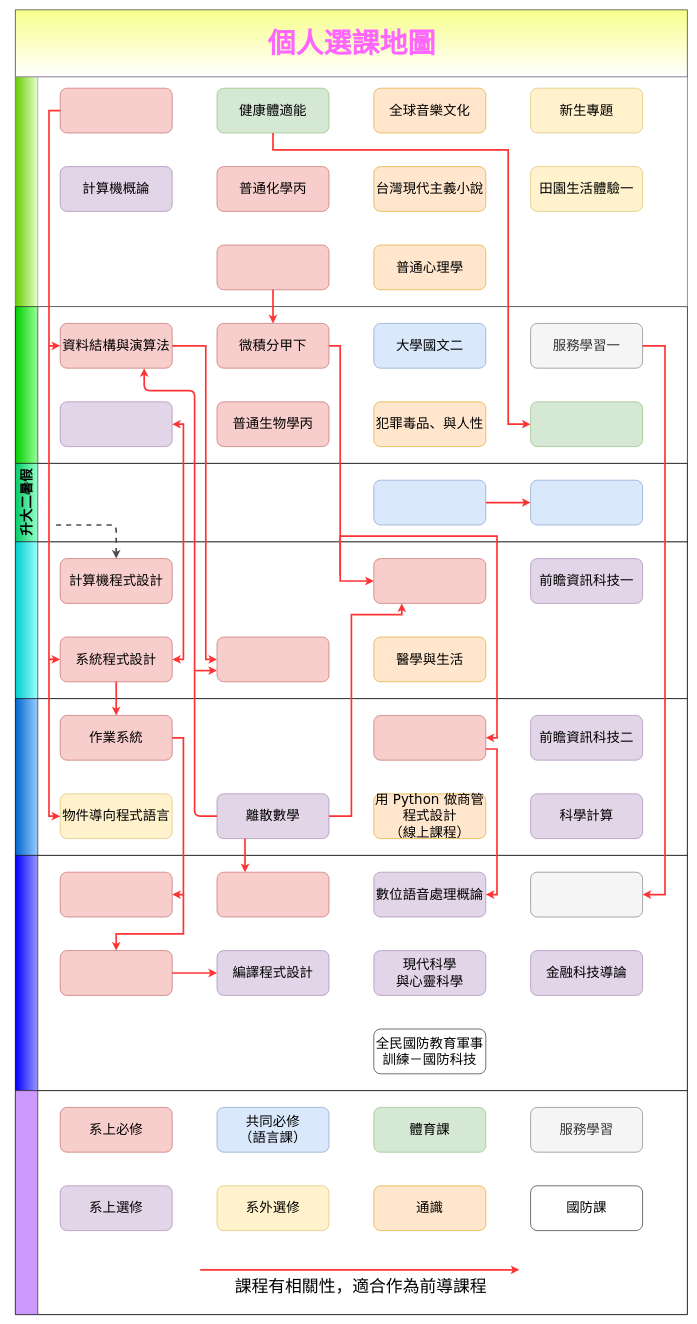
Some shapes in this 697 by 1324 pixel diagram are drawn without their labels. The box of each missing label's shape, as (x1, y1, x2, y2) in pixels:
圖例: (15, 1090, 687, 1315)
大一上: (15, 76, 687, 307)
大一下: (15, 306, 687, 463)
大三上: (15, 855, 687, 1091)
大二上: (15, 541, 687, 699)
大二下: (15, 698, 687, 855)
微積分甲上: (216, 244, 329, 290)
德文一上: (373, 480, 486, 525)
德文一下: (530, 480, 643, 525)
服務學習二: (530, 872, 643, 917)
機率: (373, 715, 486, 760)
演算法設計與分析: (216, 636, 329, 682)
籃球中級: (530, 401, 643, 447)
網路管理與系統管理/實驗: (60, 401, 172, 447)
線性代數: (373, 558, 486, 603)
自動機與形式語言: (216, 872, 329, 917)
計算機程式設計（停修）: (60, 88, 172, 133)
計算機結構: (60, 950, 172, 995)
計算機網路: (60, 872, 172, 917)
